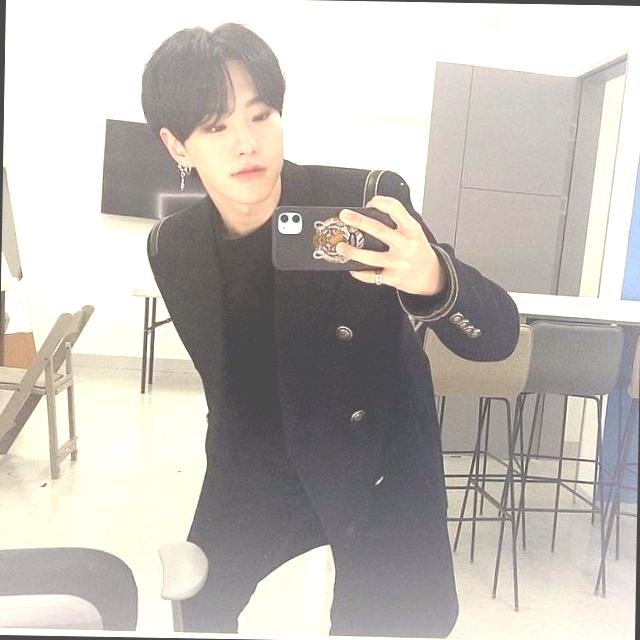lens_back: (278, 212, 290, 224), (291, 213, 302, 224)
phone: (271, 202, 412, 274)
